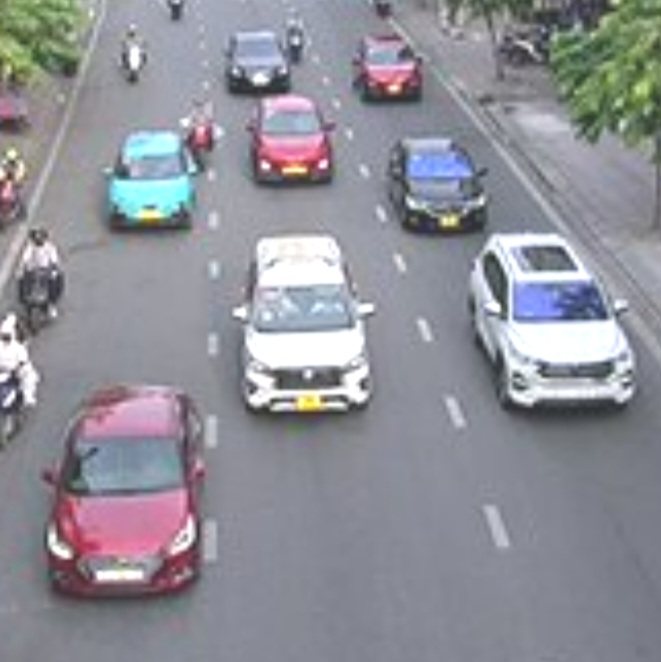car: (45, 382, 202, 600), (471, 230, 639, 416), (241, 233, 372, 413), (387, 138, 490, 232), (107, 128, 195, 234), (248, 98, 335, 185), (357, 34, 423, 103), (226, 29, 292, 96)
